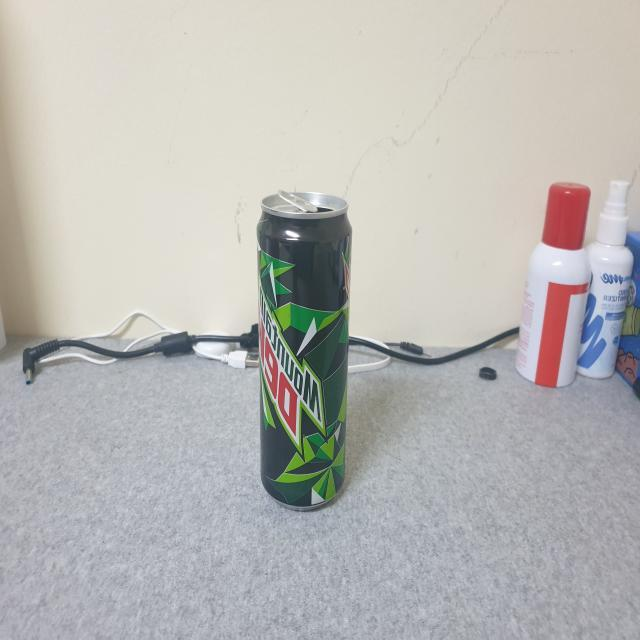can: (240, 174, 363, 516)
